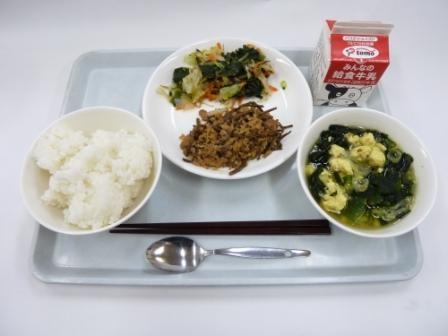Milk: (304, 7, 408, 99)
Rice: (25, 101, 158, 235)
Soups: (308, 106, 434, 237)
cooked food based on meat: (179, 100, 293, 176)
salad with sauce: (154, 43, 279, 111)
